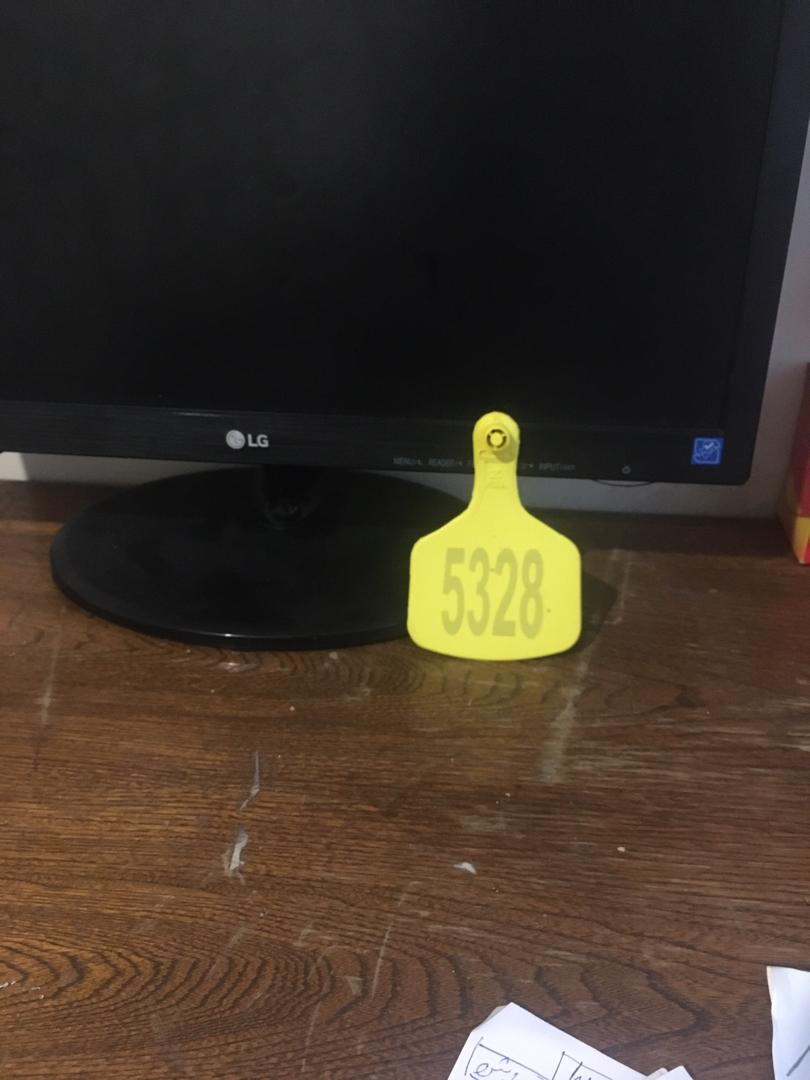digit: (438, 541, 549, 640)
